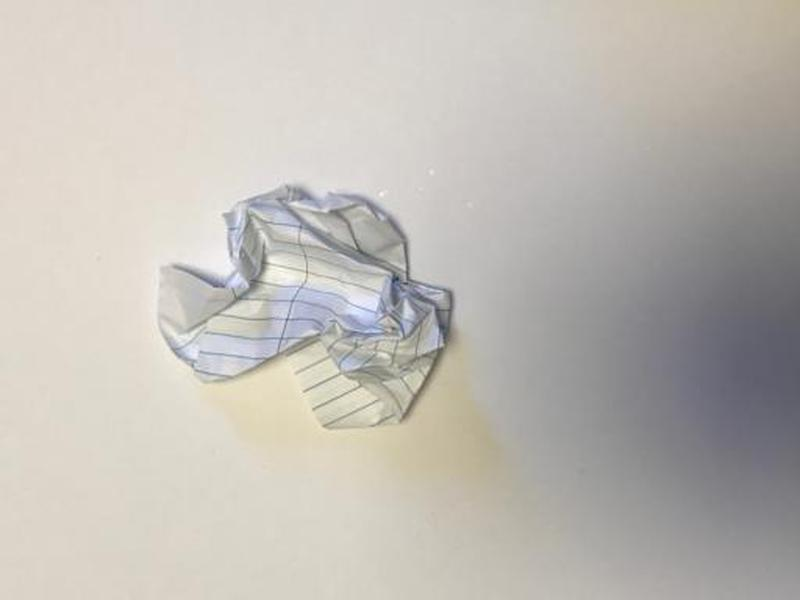paper: (155, 183, 461, 433)
